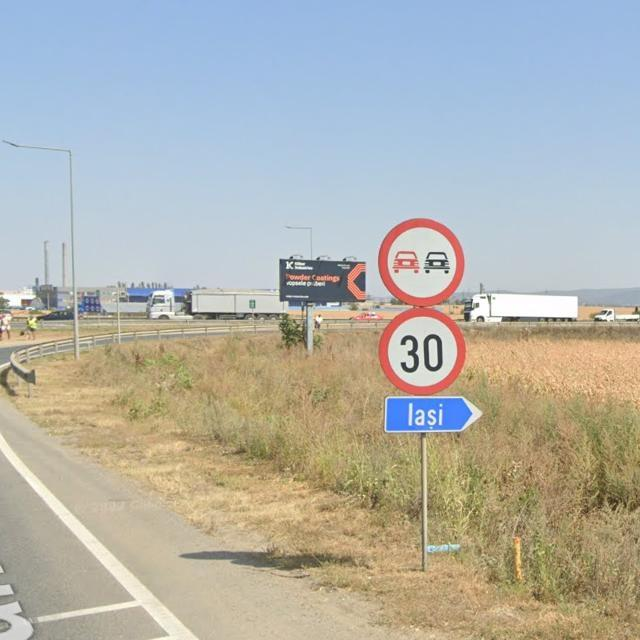forb_overtake: (378, 219, 467, 307)
forb_speed_over_30: (375, 304, 470, 396)
